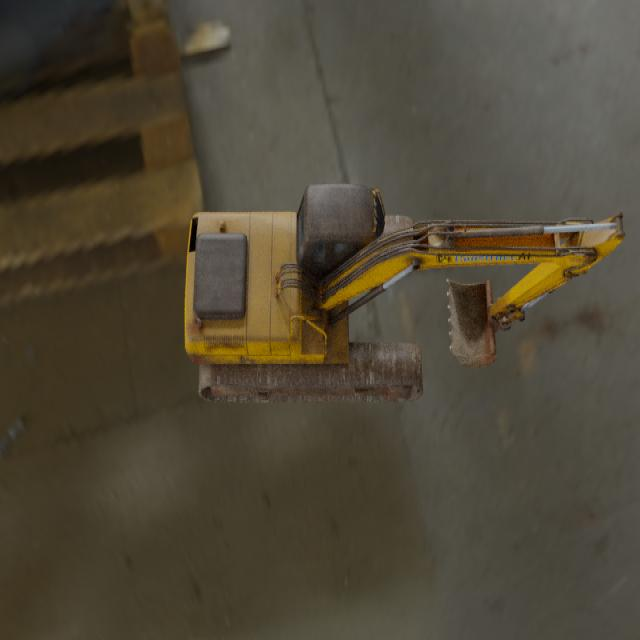excavator: (184, 181, 625, 403)
